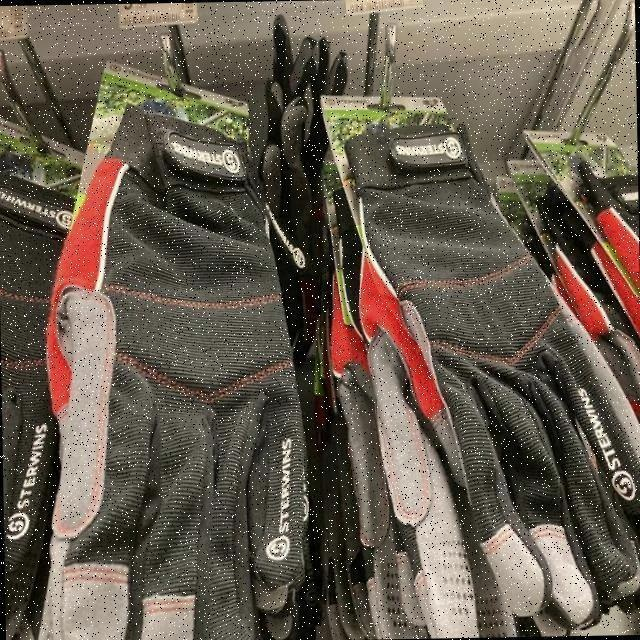Guantes: (339, 146, 640, 601)
